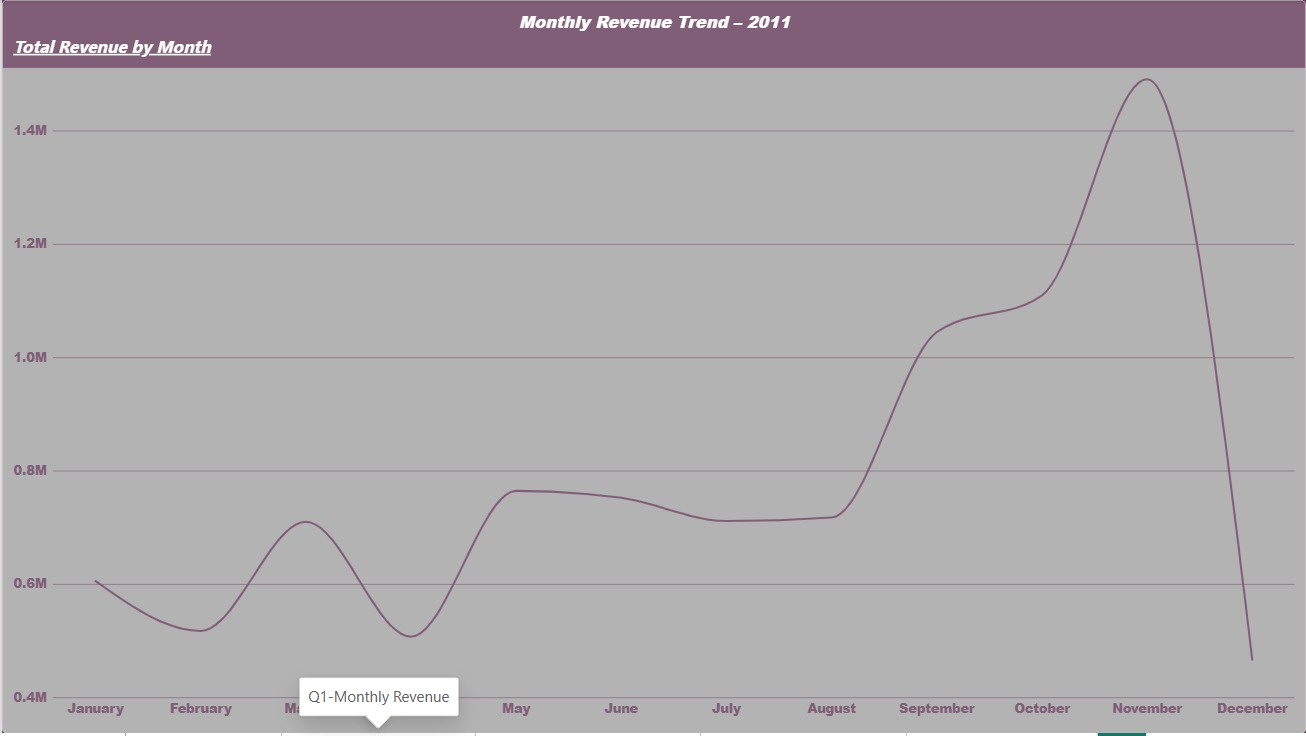

Layout of this report page (visuals, bound fields, positions):
{"tool":"powerbi","page":{"name":"Q1-Monthly Revenue","canvas":[1920,1080],"ordinal":1},"visuals":[{"type":"lineChart","title":"Monthly Revenue Trend – 2011","fields":{"Category":["Online Retail.InvoiceDate.Variation.Date Hierarchy.Month"],"Y":["Online Retail.Total Revenue"]},"box":[0,0,1920,1080],"z":0}]}

Visuals, with their boxes in screenshot pixels (x1, y1, x2, y2), scaled from the page's 1920x1080 canvas onto the 1306x736 screenshot:
"Monthly Revenue Trend – 2011" lineChart: rect(0, 0, 1305, 735)
